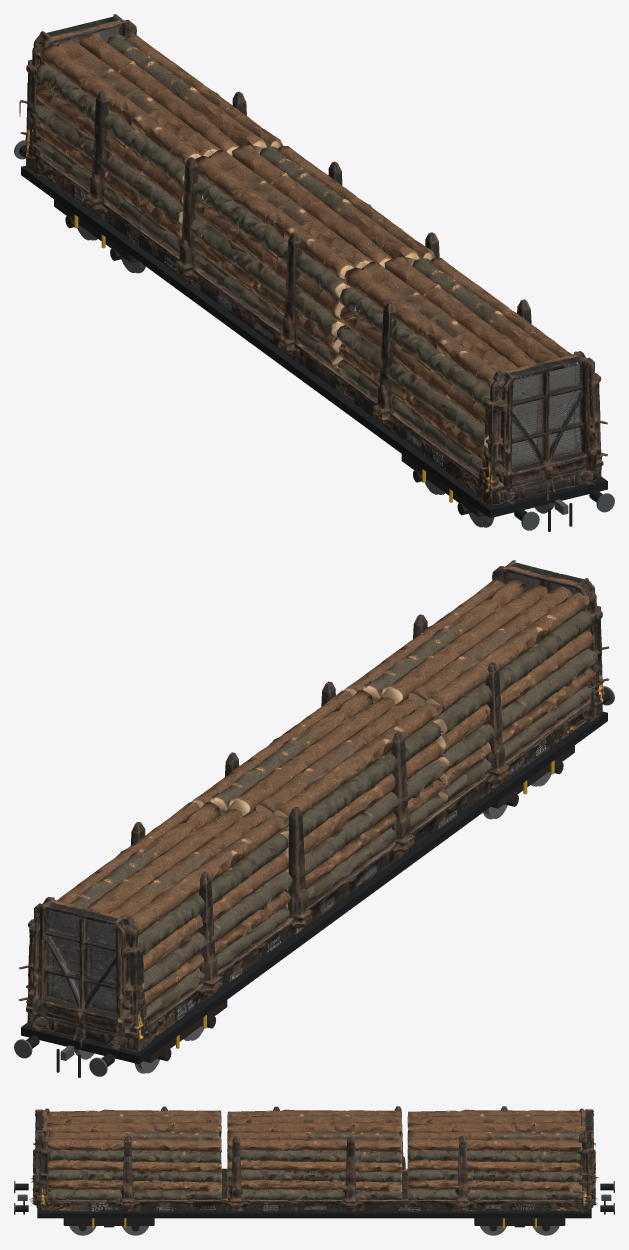
Rendered from roos_t.glb.
3 views of the same model, one above another, from view 1: azimuth 30°, elevation 25°; view 2: azimuth 150°, elevation 25°; view 3: azimuth 270°, elevation 25° (orthographic). The views are drawn at different scales.
Parts seen in each view (by area): view 1: roos_t_kori, kuorma1, kuorma2, kuorma0, roos_t_frame; view 2: roos_t_kori, kuorma0, kuorma1, kuorma2, roos_t_frame; view 3: kuorma2, kuorma0, kuorma1, roos_t_kori, roos_t_frame, Bogie_F_side1, Bogie_R_side1.
Boxes of the visible parts, bbox=[...] form: roos_t_kori: bbox=[19, 14, 607, 505]; kuorma1: bbox=[189, 145, 435, 368]; kuorma2: bbox=[31, 33, 282, 254]; kuorma0: bbox=[337, 256, 589, 479]; roos_t_frame: bbox=[21, 165, 607, 518]; roos_t_kori: bbox=[18, 560, 609, 1051]; kuorma0: bbox=[344, 578, 597, 803]; kuorma1: bbox=[191, 690, 445, 908]; kuorma2: bbox=[34, 801, 292, 1023]; roos_t_frame: bbox=[21, 711, 607, 1064]; kuorma2: bbox=[407, 1109, 582, 1200]; kuorma0: bbox=[47, 1109, 221, 1200]; kuorma1: bbox=[226, 1109, 402, 1200]; roos_t_kori: bbox=[30, 1106, 599, 1212]; roos_t_frame: bbox=[37, 1200, 591, 1218]; Bogie_F_side1: bbox=[63, 1218, 154, 1225]; Bogie_R_side1: bbox=[474, 1218, 565, 1225].
Bounding box in the file's own units: 3 × 4.02 × 20.49.
Materials: 8 (2 with a texture image).
